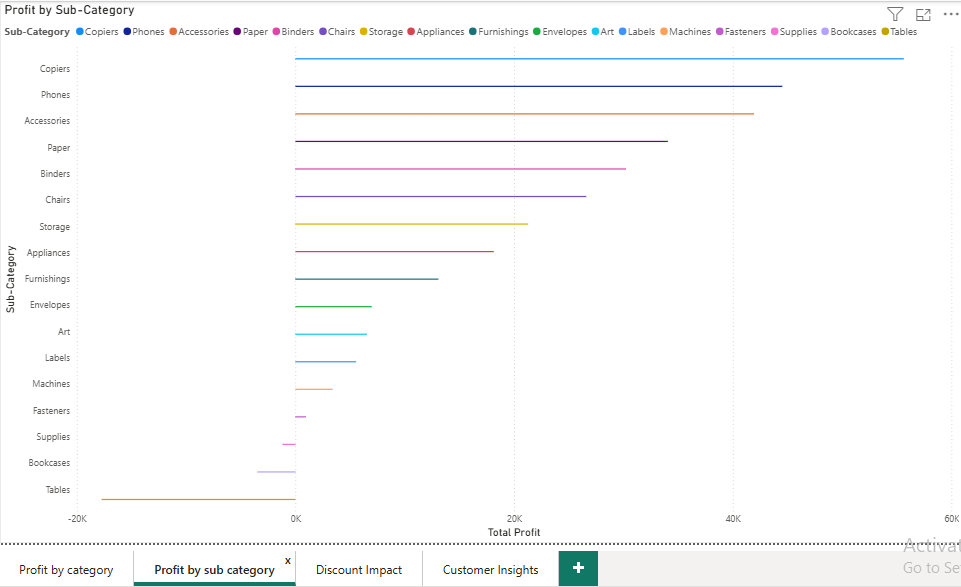

Layout of this report page (visuals, bound fields, positions):
{"tool":"powerbi","page":{"name":"Profit by sub category","canvas":[1280,720],"ordinal":1},"visuals":[{"type":"clusteredBarChart","title":"Profit by Sub-Category","fields":{"Category":["Superstore_Cleaned.Sub-Category"],"Y":["Superstore_Cleaned.Total Profit"],"Series":["Superstore_Cleaned.Sub-Category"]},"box":[0,0,1280,720.6],"z":0}]}

Visuals, with their boxes on the page's 1280x720 design canvas (x1, y1, x2, y2). These are canvas units, not pixel positions in the 961x587 screenshot, which may show the page scaled, cropped or inside an application window:
"Profit by Sub-Category" clusteredBarChart: (left=0, top=0, right=1280, bottom=721)
